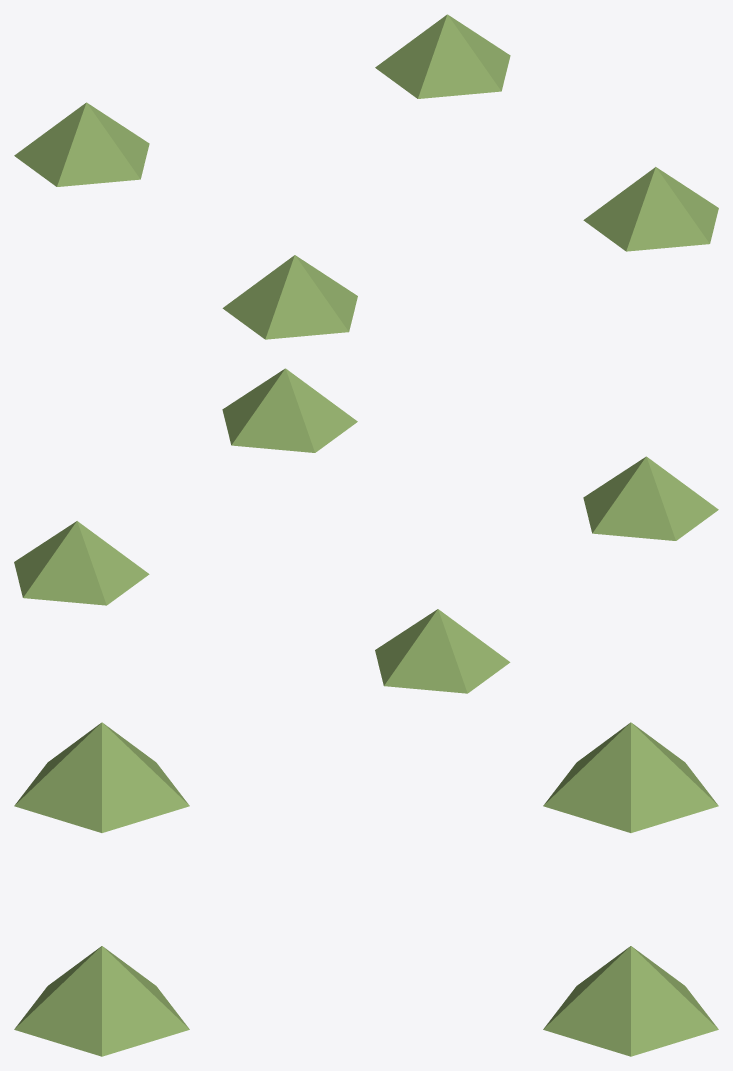
File: coffee_seed.glb
3 renders of one model, top to bottom at view 1: azimuth 30°, elevation 25°; view 2: azimuth 150°, elevation 25°; view 3: azimuth 270°, elevation 25°, orthographic. The views are drawn at different scales.
Bounding box in the file's own units: 1.05 × 0.12 × 1.07.
